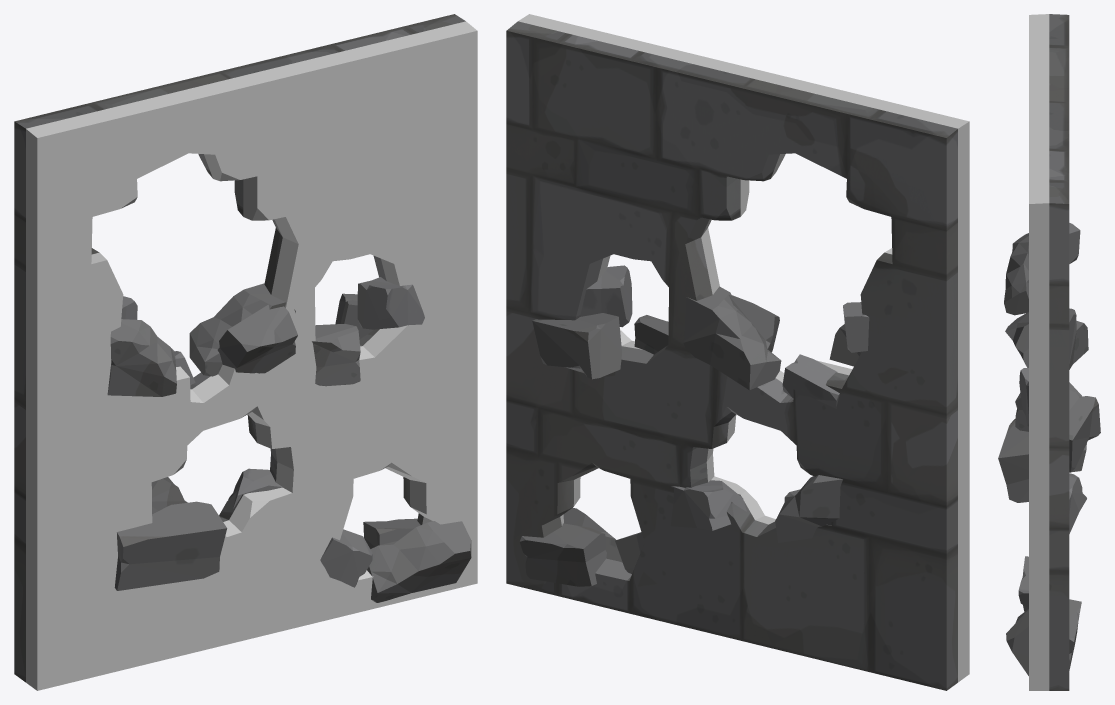
The model's file is SM_Bld_Wall_L_Damaged_05.fbx.
3 views of the same model, side by side, from view 1: azimuth 30°, elevation 25°; view 2: azimuth 150°, elevation 25°; view 3: azimuth 270°, elevation 25° (orthographic). The views are drawn at different scales.
Visible parts, largest first — view 1: SM_Bld_Wall_L_Damaged_05; view 2: SM_Bld_Wall_L_Damaged_05; view 3: SM_Bld_Wall_L_Damaged_05.
Boxes of the visible parts, x1,y1,x2,y2 form: SM_Bld_Wall_L_Damaged_05: (14, 14, 477, 690); SM_Bld_Wall_L_Damaged_05: (506, 14, 969, 690); SM_Bld_Wall_L_Damaged_05: (998, 14, 1100, 690).
Bounding box in the file's own units: 500 × 603 × 115.
